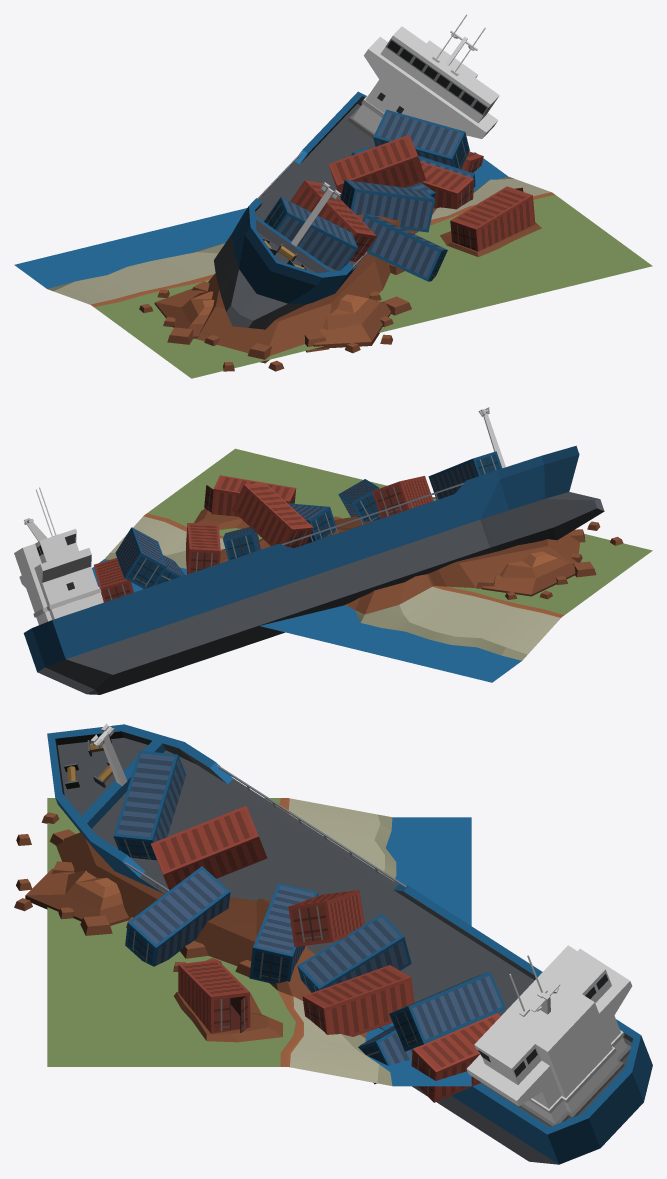
The model's file is SA_Env_ShipCrash_01.gltf.
3 views of the same model, one above another, from view 1: azimuth 30°, elevation 25°; view 2: azimuth 150°, elevation 25°; view 3: azimuth 270°, elevation 25° (orthographic). The views are drawn at different scales.
Visible parts, largest first — view 1: SA_Env_ShipCrash_01; view 2: SA_Env_ShipCrash_01; view 3: SA_Env_ShipCrash_01.
Boxes of the visible parts, x1=… form: SA_Env_ShipCrash_01: x1=14, y1=14, x2=652, y2=378; SA_Env_ShipCrash_01: x1=14, y1=407, x2=652, y2=694; SA_Env_ShipCrash_01: x1=14, y1=723, x2=652, y2=1164.
Size of the model in its own units: 98.19 by 44.94 by 90.35.
Materials: 1 (1 with a texture image).
